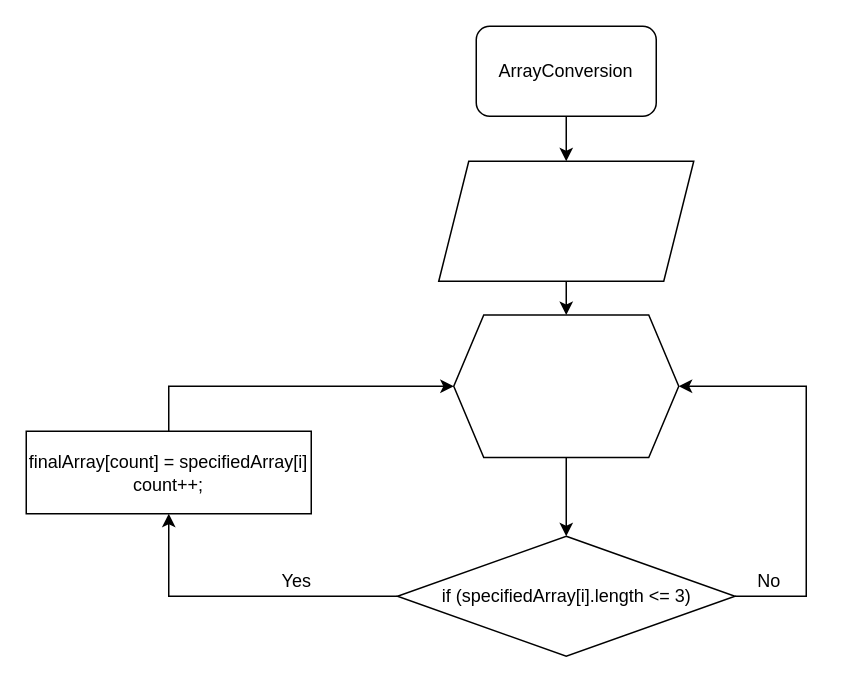
Image size: 845x683. Some labels were removed from this diagram. Each missing label, with the centre of its shape:
for (int i = 0; i < specifiedArray.length; i++): point (565, 386)
string[] specifiedArray string[] finalArray int count = 0: point (565, 220)
